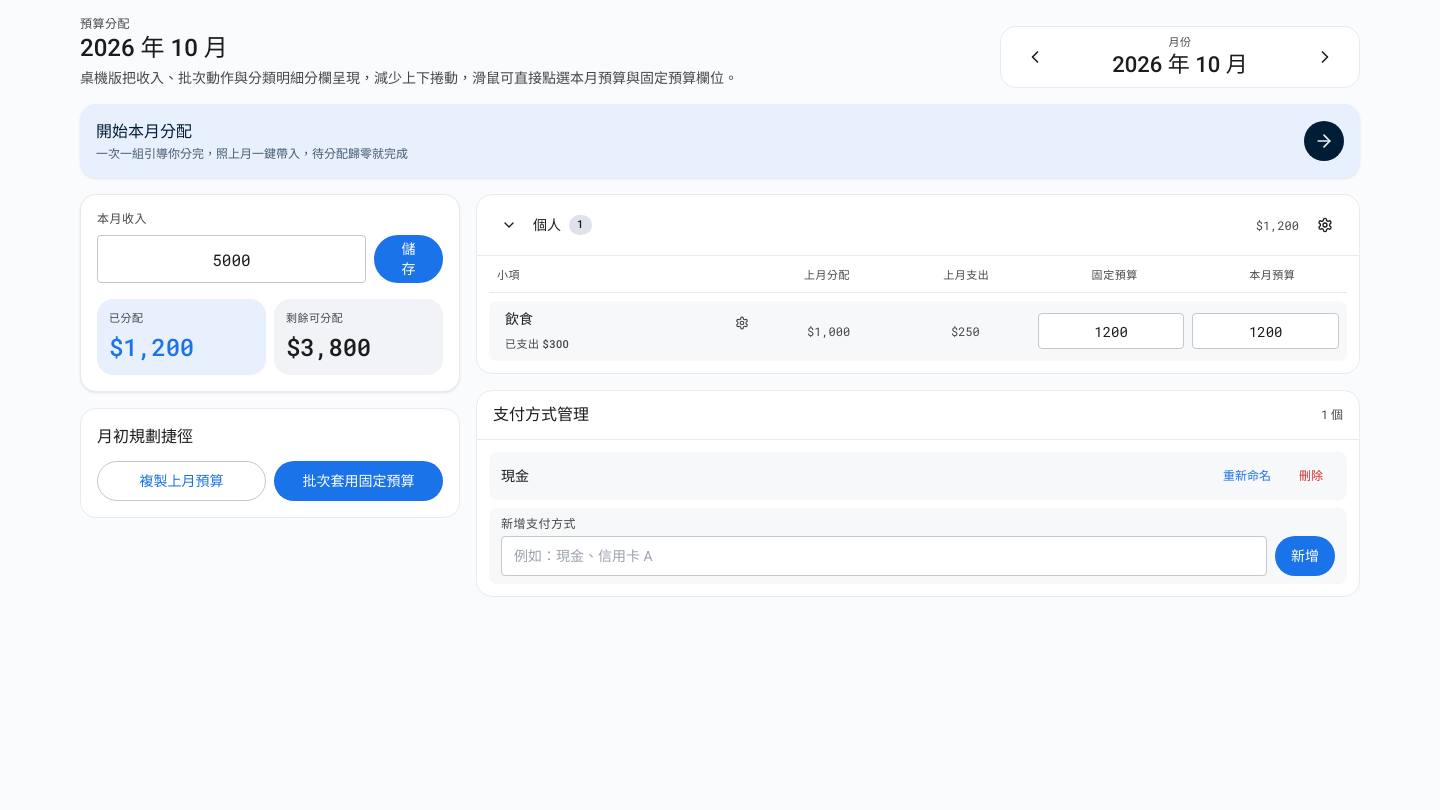
BudgetAllocationPage › uses Material dialogs for batch budget actions instead of window.confirm
Click the button "複製上月預算" at (182, 481), box [97,461,266,501]
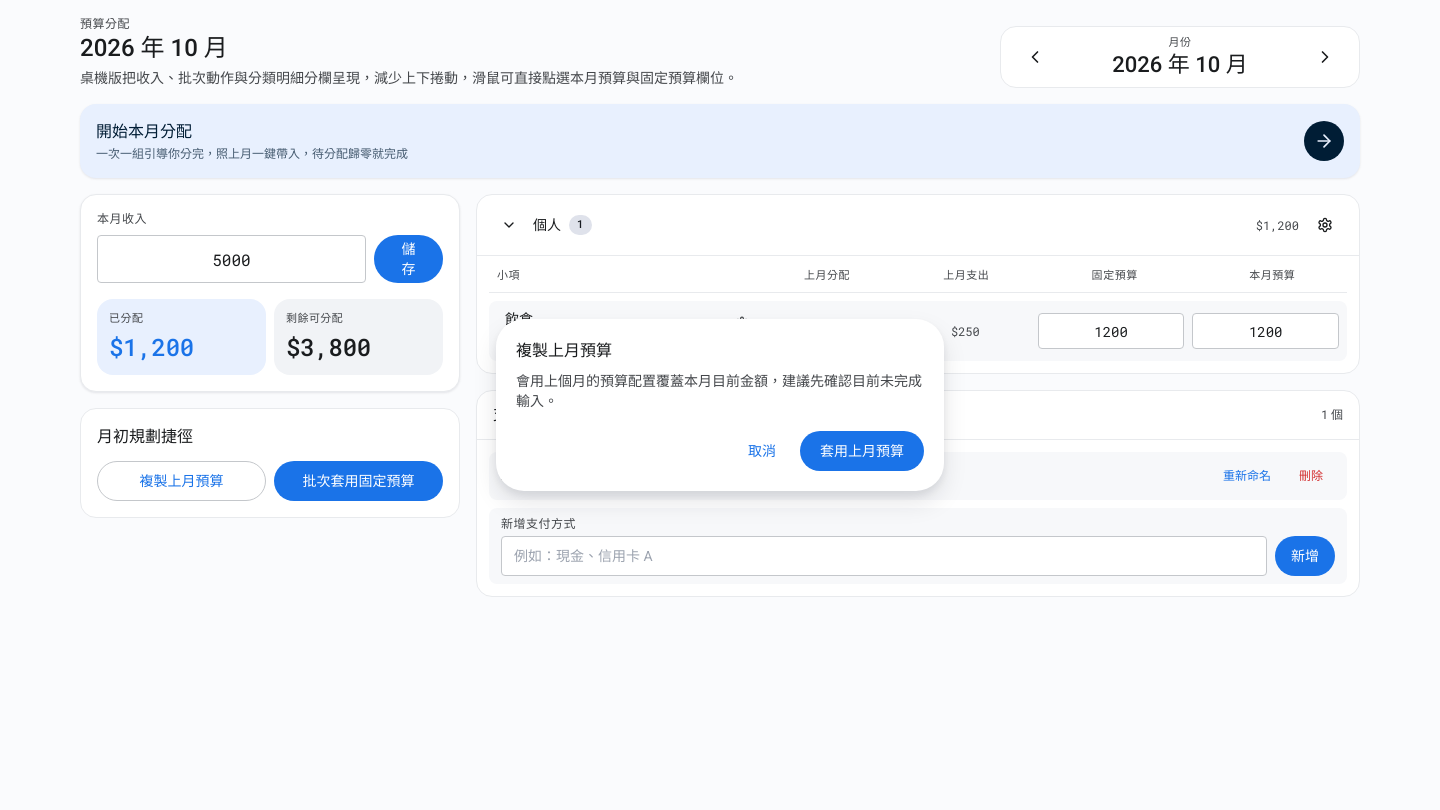
expect the dialog "複製上月預算" is shown: met, box [496,319,944,491]
expect the button "套用上月預算" is shown: met, box [800,431,924,471]
